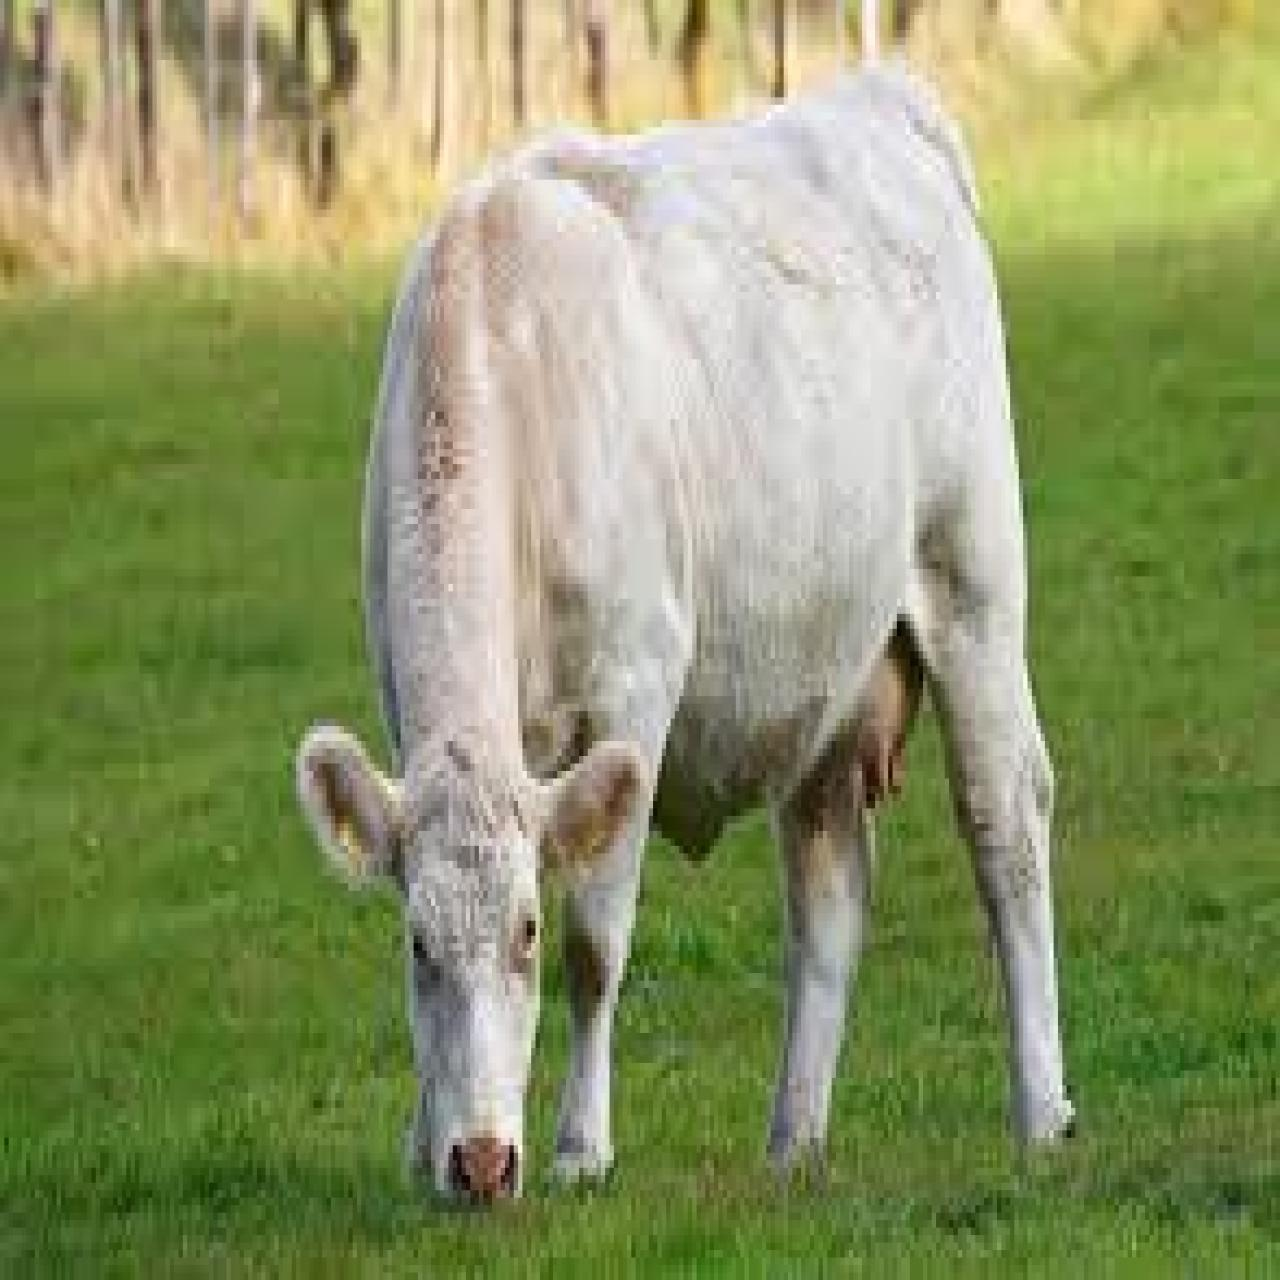cow: (294, 63, 1077, 1210)
